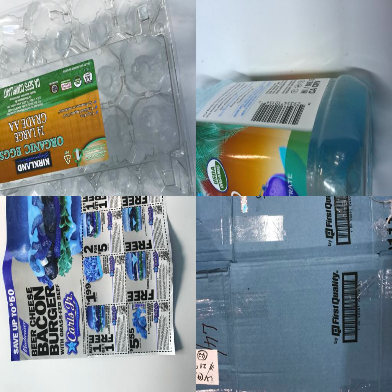cardboard: (197, 195, 392, 391)
paper: (3, 196, 177, 360)
plastic: (1, 1, 195, 194), (197, 73, 376, 194)
